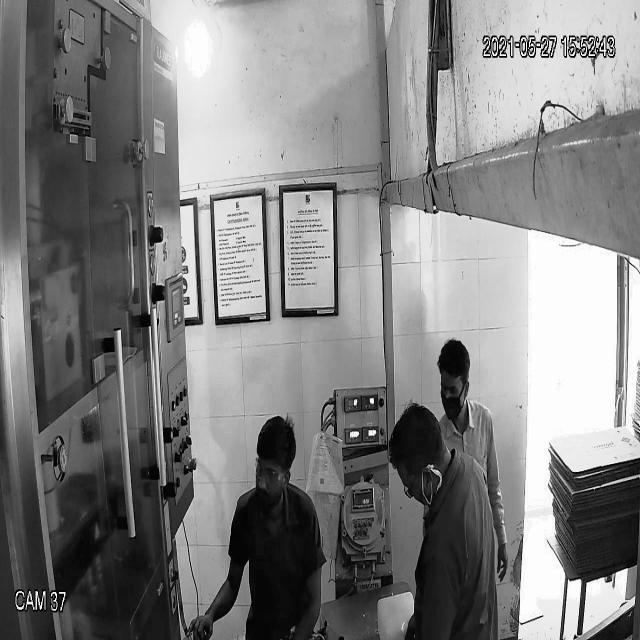glasses: (250, 454, 290, 490)
no-glass: (433, 374, 467, 399)
